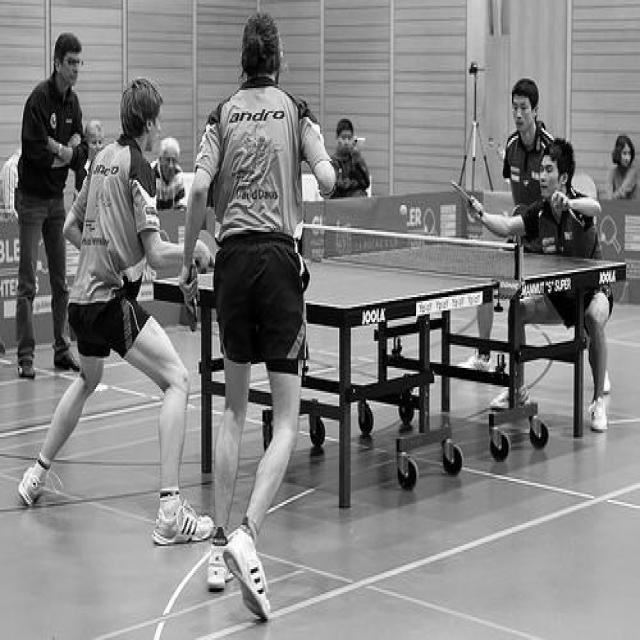ping-pong-ball: (399, 204, 407, 216)
